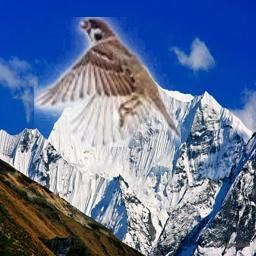Sparrow: (34, 17, 181, 147)
